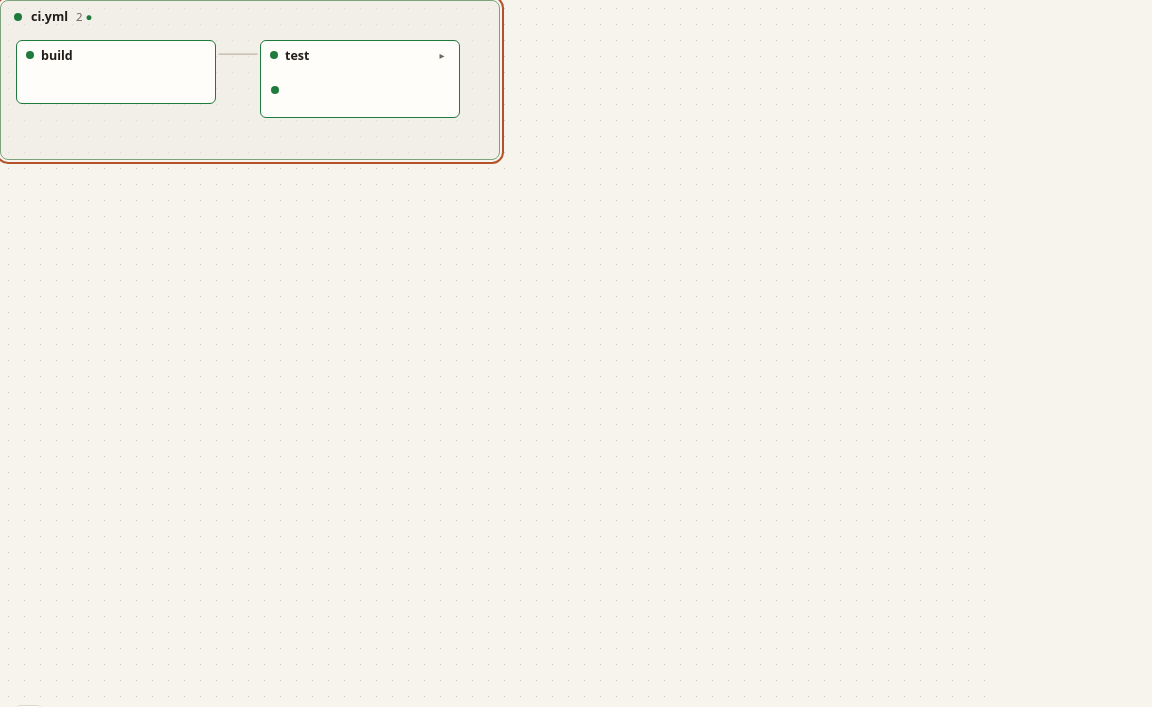
Scenario: the canvas › opens the hover card 300 ms after the pointer settles on a job
Hover over the element named "runs test, needs build" at point(360, 79), box [260,40,460,118]
Wait 300 ms
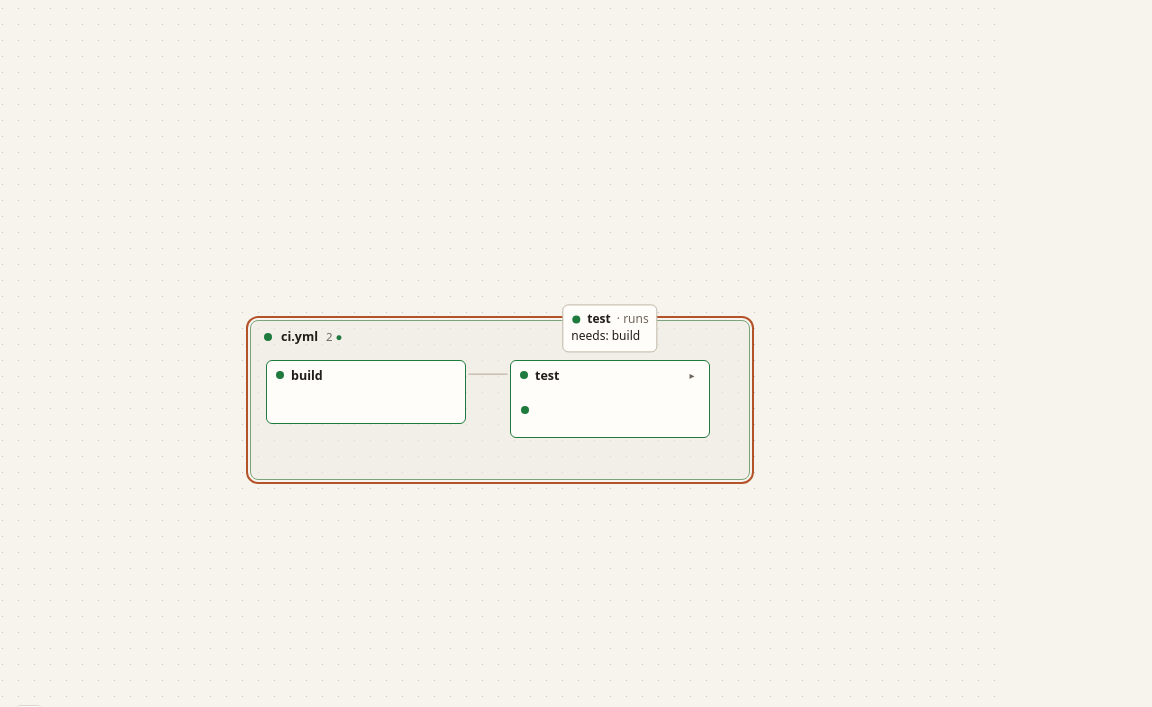
expect the text "needs: build" is shown: met, box [571,328,649,345]
Move the pointer off the element named "runs test, needs build", box [510,360,710,438]
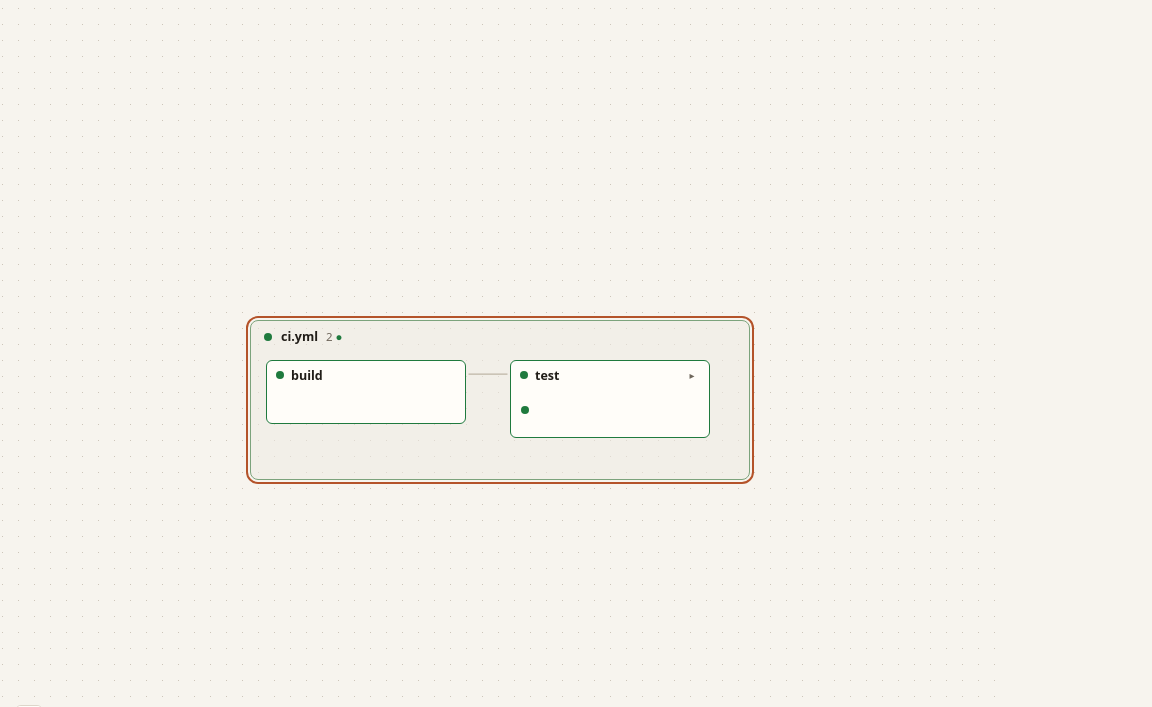
expect the text "needs: build" is gone: met
